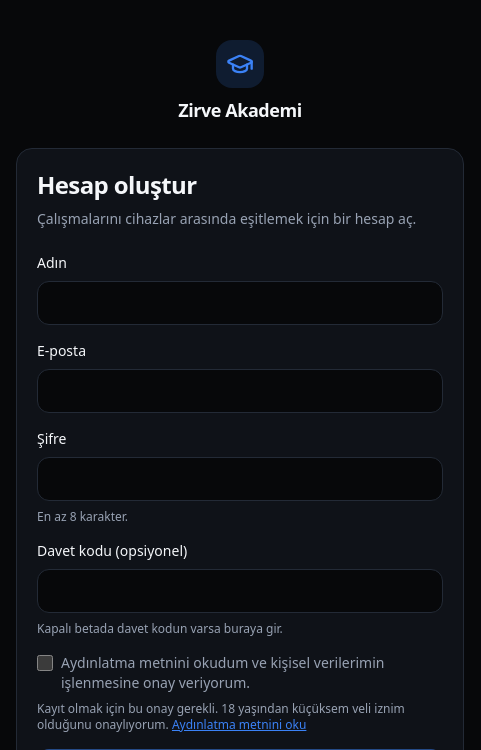
Test: kayıt formunda gizlilik onayı olmadan buton kapalıdır
Type "Deniz" into the field labelled "Adın" at (240, 303), box [37,281,443,325]
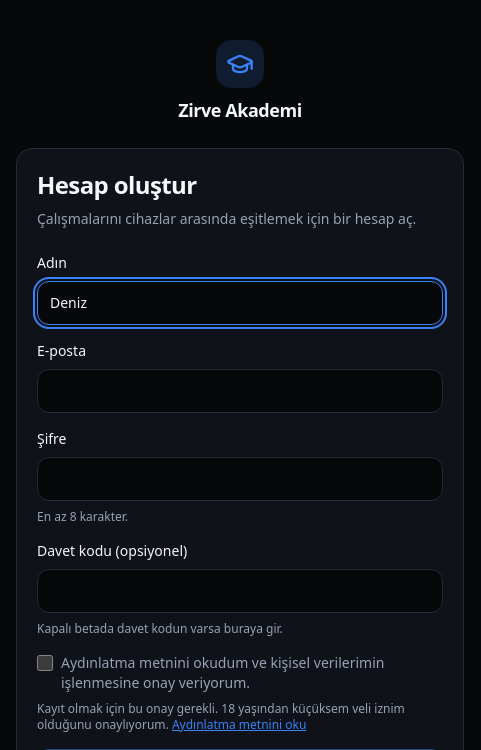
Type "deniz@example.com" into the field labelled "E-posta" at (240, 391), box [37,369,443,413]
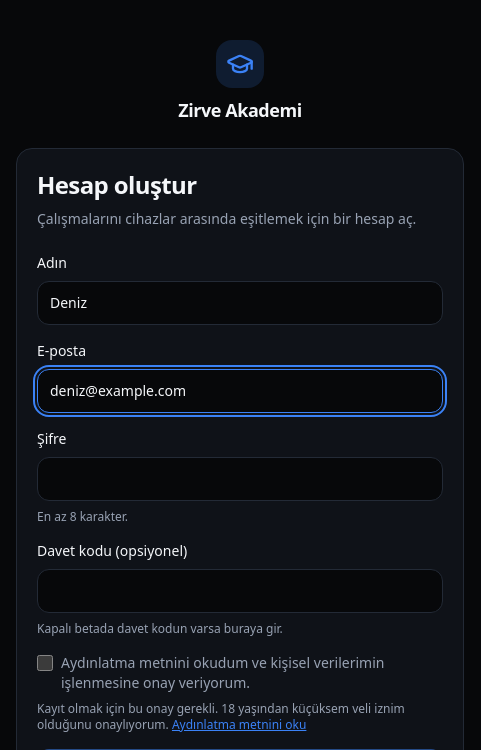
Type "gizli-sifre-123" into the password field labelled "Şifre" at (240, 479), box [37,457,443,501]
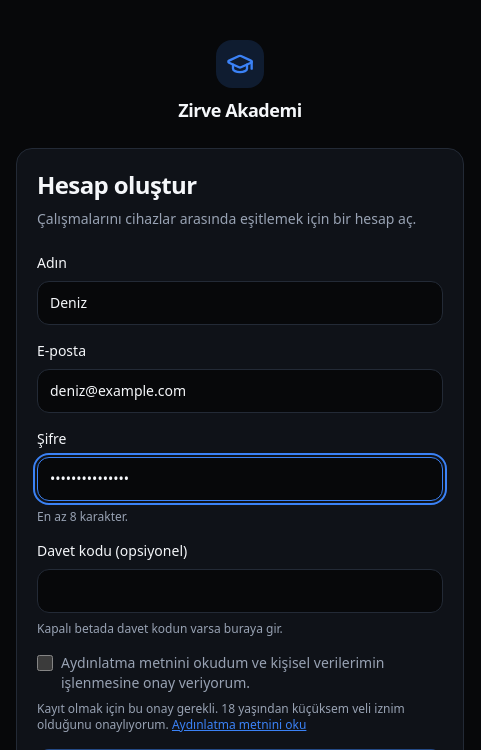
Click the checkbox at (45, 663), box [37,655,53,671]
(page scrolled)
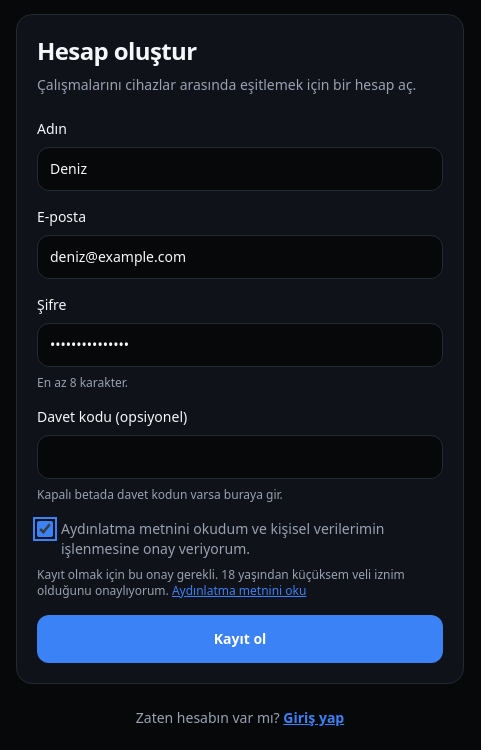
Result: the button "Kayıt ol" is enabled at [37,615,443,663]
